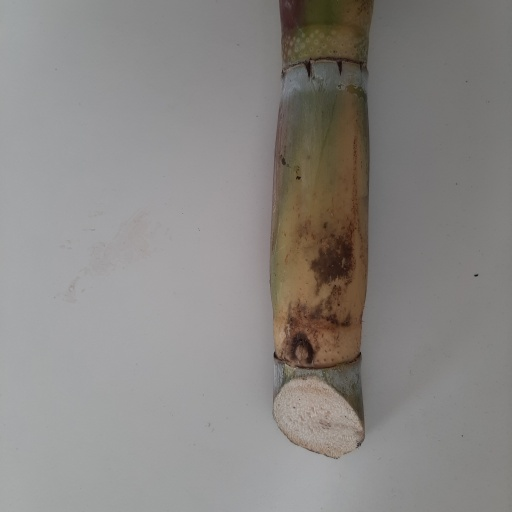Bud: (291, 339, 315, 369)
